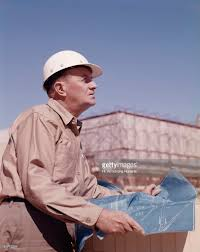Person_wearing_helmet: (33, 46, 104, 89)
